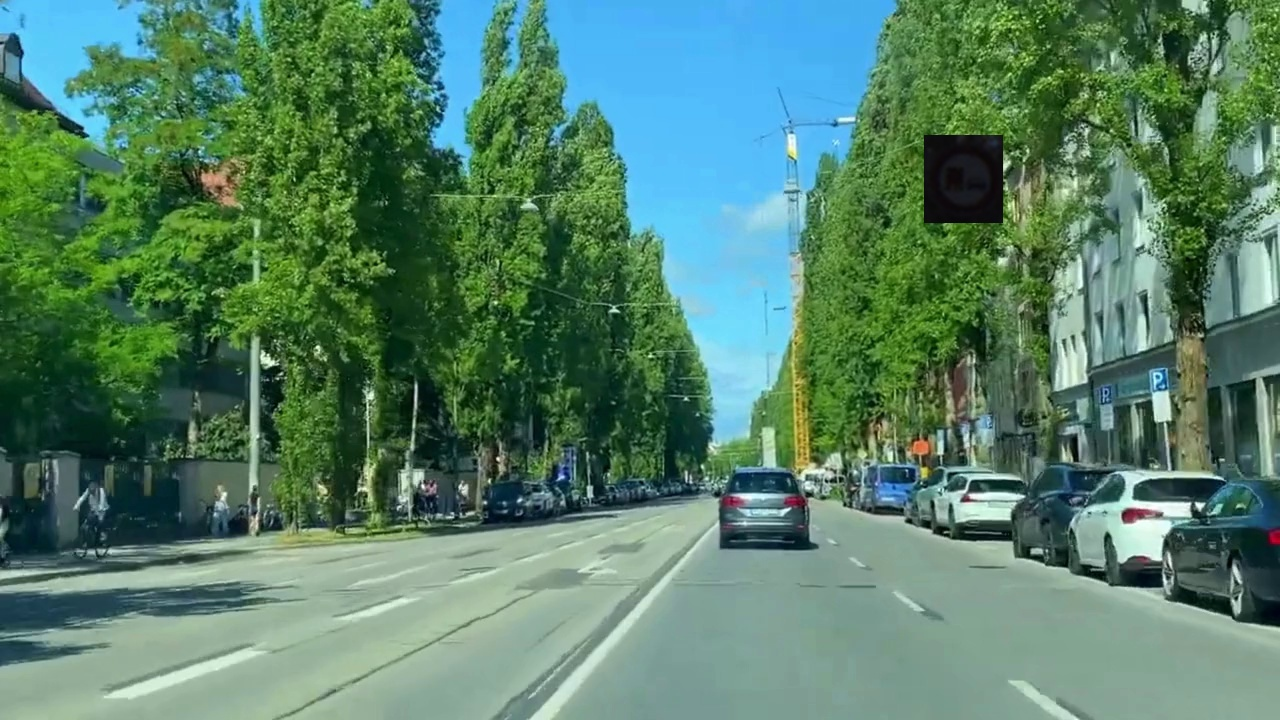No pass >3.5t: (924, 135, 1003, 223)
